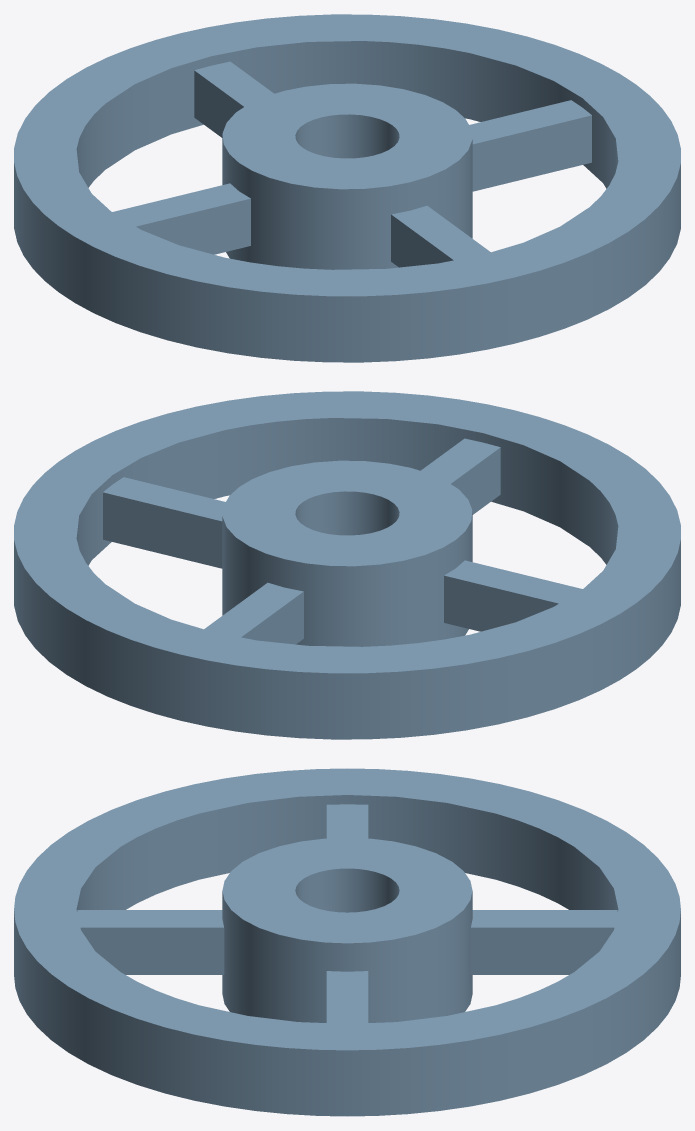
The model's file is 04_valve_handwheel.glb.
3 views of the same model, one above another, from view 1: azimuth 30°, elevation 25°; view 2: azimuth 150°, elevation 25°; view 3: azimuth 270°, elevation 25° (orthographic).
Parts seen in each view (by area): view 1: body; view 2: body; view 3: body.
Boxes of the visible parts, left/top/right/bottom form: body: left=14, top=14, right=680, bottom=362; body: left=14, top=391, right=680, bottom=739; body: left=14, top=768, right=680, bottom=1116.
Bounding box in the file's own units: 64 × 11 × 64.
